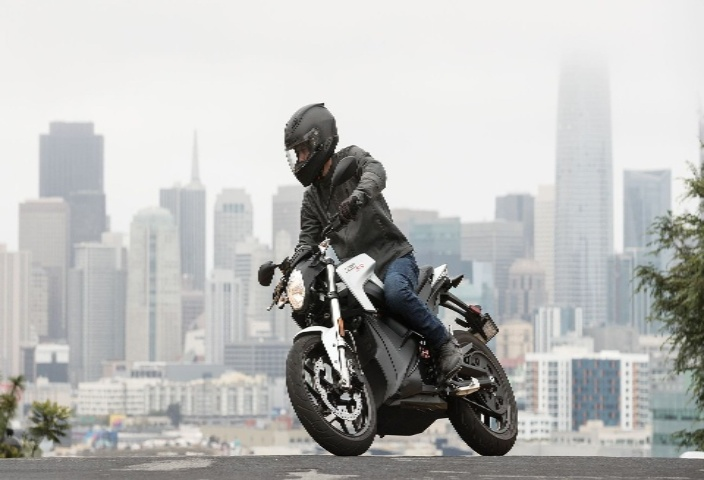motorcycle: (233, 105, 535, 455)
